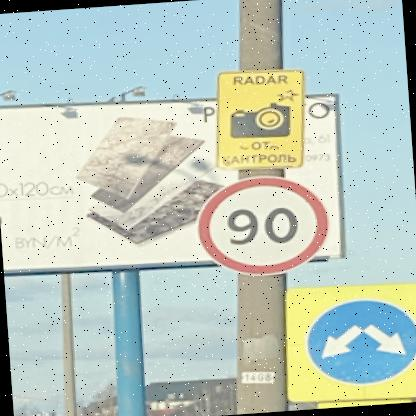speedlimit: (190, 170, 332, 279)
